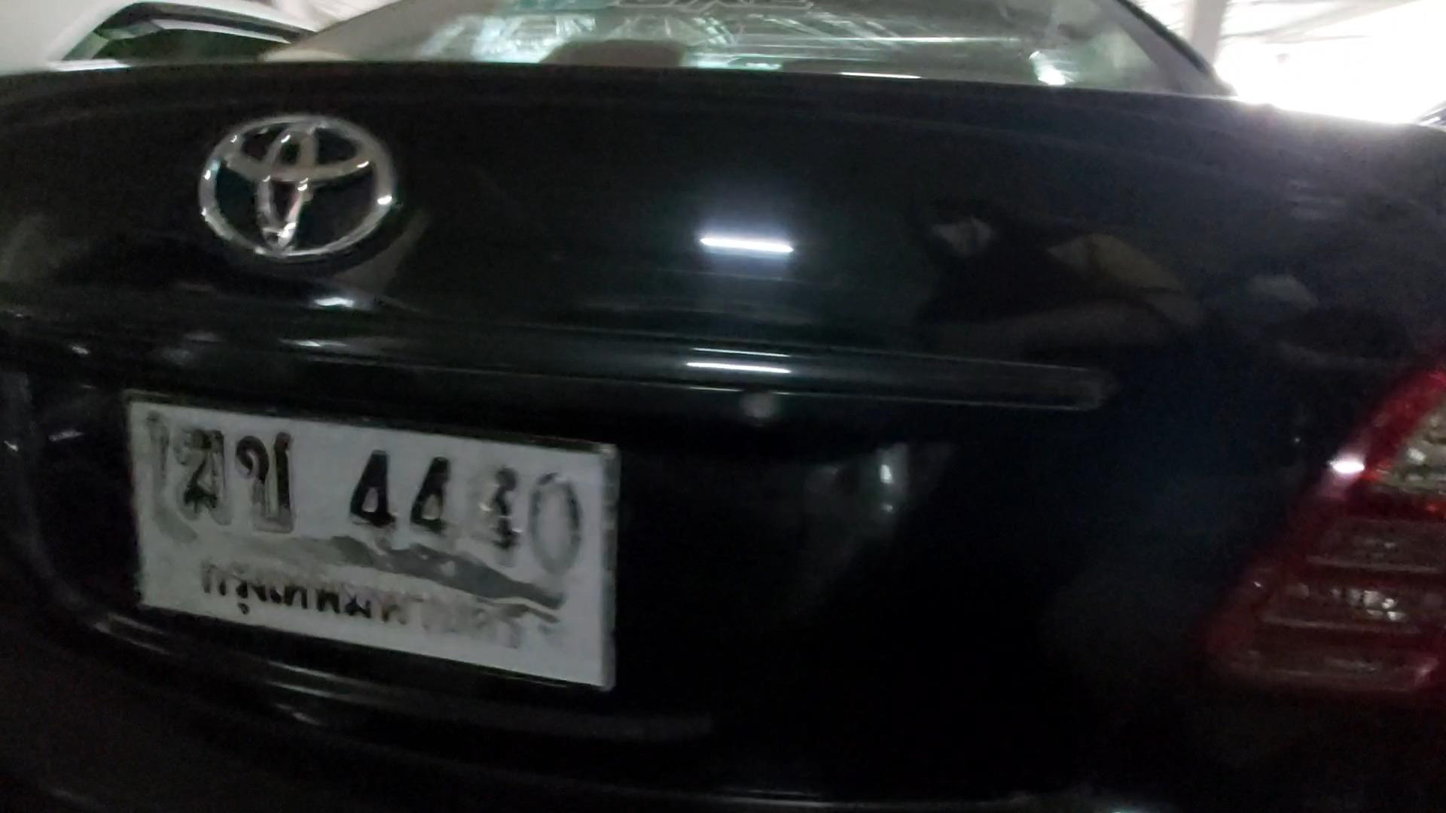license-plate: (129, 401, 607, 687)
